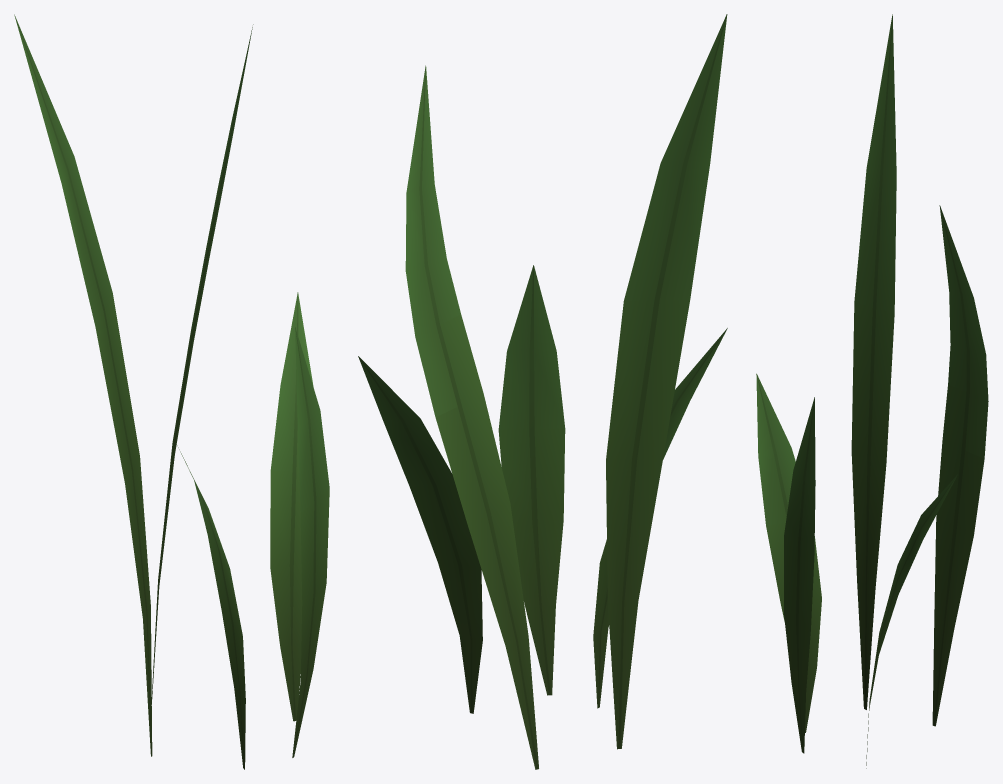
Rendered from TallGrass_1.fbx.
3 renders of one model, left to right at view 1: azimuth 30°, elevation 25°; view 2: azimuth 150°, elevation 25°; view 3: azimuth 270°, elevation 25°, orthographic. The views are drawn at different scales.
Visible parts, largest first — view 1: Plane.163; view 2: Plane.163; view 3: Plane.163.
Boxes of the visible parts, <box> form: Plane.163: <box>14,14,329,769</box>; Plane.163: <box>358,14,727,769</box>; Plane.163: <box>756,14,988,768</box>.
Size of the model in its own units: 155 by 114 by 350.
